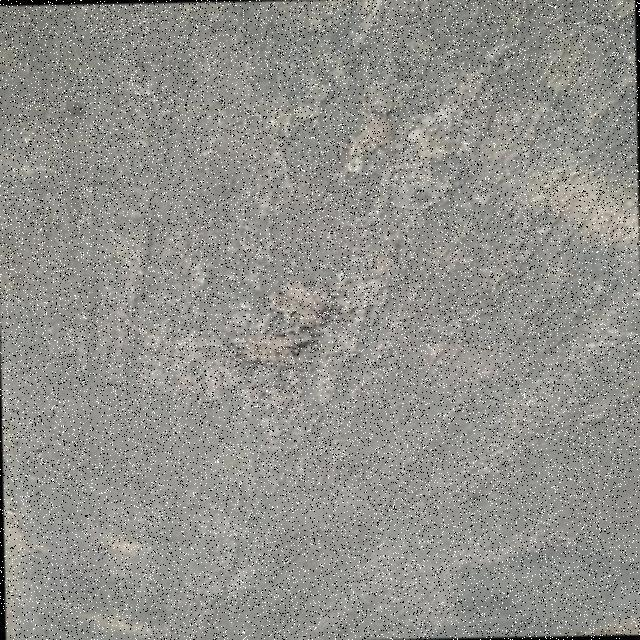Pothole: (233, 281, 337, 360)
